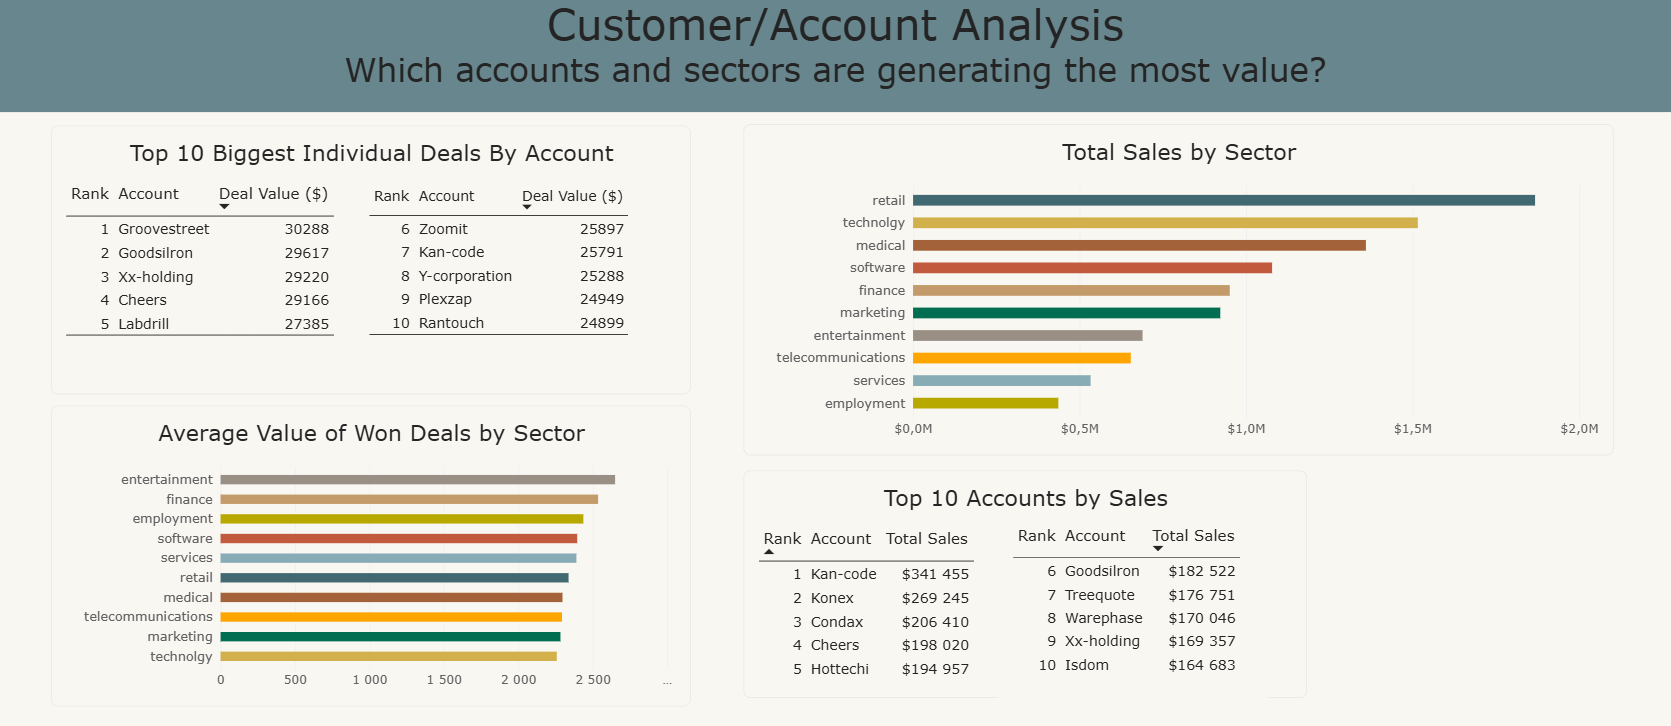

The page's visual inventory and layout, read from the dashboard file:
{"tool":"powerbi","page":{"name":"Customer/Account Analysis","canvas":[1920,1080],"ordinal":3},"visuals":[{"type":"textbox","box":[10,0,1910,130],"z":0},{"type":"barChart","title":"Total Sales by Sector","fields":{"Category":["pipeline_sales accounts.sector"],"Series":["pipeline_sales accounts.sector"],"Y":["pipeline_sales sales_pipeline.Total Sales"]},"box":[860,144.3,994.3,378.6],"z":1000},{"type":"tableEx","title":"Top 10 Biggest Individual Deals By Account","fields":{"Values":["pipeline_sales sales_pipeline.Deal Rank","pipeline_sales sales_pipeline.account","pipeline_sales sales_pipeline.Deal Value"]},"box":[68.6,145.7,731.4,307.1],"z":2000},{"type":"barChart","title":"Average Value of Won Deals by Sector","fields":{"Category":["pipeline_sales accounts.sector"],"Series":["pipeline_sales accounts.sector"],"Y":["pipeline_sales sales_pipeline.Avg Deal Value Won"]},"box":[68.6,465.7,731.4,344.3],"z":3000},{"type":"tableEx","title":"Top 10 Accounts by Sales","fields":{"Values":["pipeline_sales sales_pipeline.Sales Rank","pipeline_sales sales_pipeline.account","pipeline_sales sales_pipeline.Total Sales"]},"box":[860,540,644.3,260],"z":4000},{"type":"tableEx","title":"Top 10 Accounts by Sales","fields":{"Values":["pipeline_sales sales_pipeline.Sales Rank","pipeline_sales sales_pipeline.account","pipeline_sales sales_pipeline.Total Sales"]},"box":[1151.4,584.3,307.1,215.7],"z":5000},{"type":"tableEx","title":"Top 10 Biggest Individual Deals By Account","fields":{"Values":["pipeline_sales sales_pipeline.Deal Rank 6-10","pipeline_sales sales_pipeline.account","pipeline_sales sales_pipeline.Deal Value"]},"box":[415.7,197.1,351.4,205.7],"z":6000}]}

Visuals, with their boxes on the page's 1920x1080 design canvas (x1, y1, x2, y2). These are canvas units, not pixel positions in the 1671x726 screenshot, which may show the page scaled, cropped or inside an application window:
textbox: 10:0:1920:130
"Total Sales by Sector" barChart: 860:144:1854:523
"Top 10 Biggest Individual Deals By Account" tableEx: 69:146:800:453
"Average Value of Won Deals by Sector" barChart: 69:466:800:810
"Top 10 Accounts by Sales" tableEx: 860:540:1504:800
"Top 10 Accounts by Sales" tableEx: 1151:584:1458:800
"Top 10 Biggest Individual Deals By Account" tableEx: 416:197:767:403
